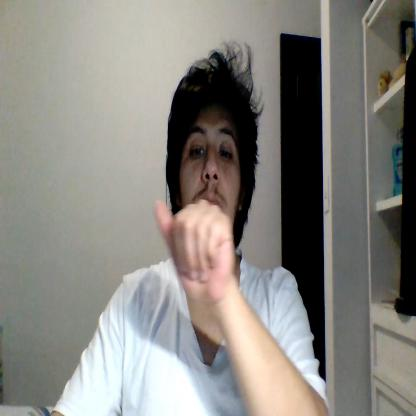A: (154, 200, 235, 303)
